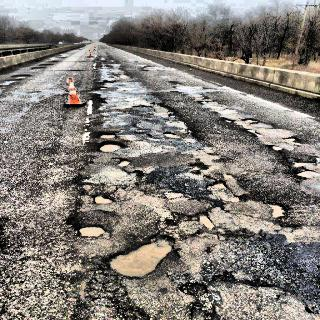pothole: (100, 232, 187, 282), (0, 58, 56, 90), (92, 128, 134, 170), (202, 174, 250, 202), (219, 116, 270, 140), (192, 211, 227, 237), (76, 220, 113, 242), (287, 157, 319, 180), (269, 134, 303, 152), (179, 279, 210, 297), (89, 190, 117, 209), (264, 199, 286, 219), (160, 129, 180, 138)
